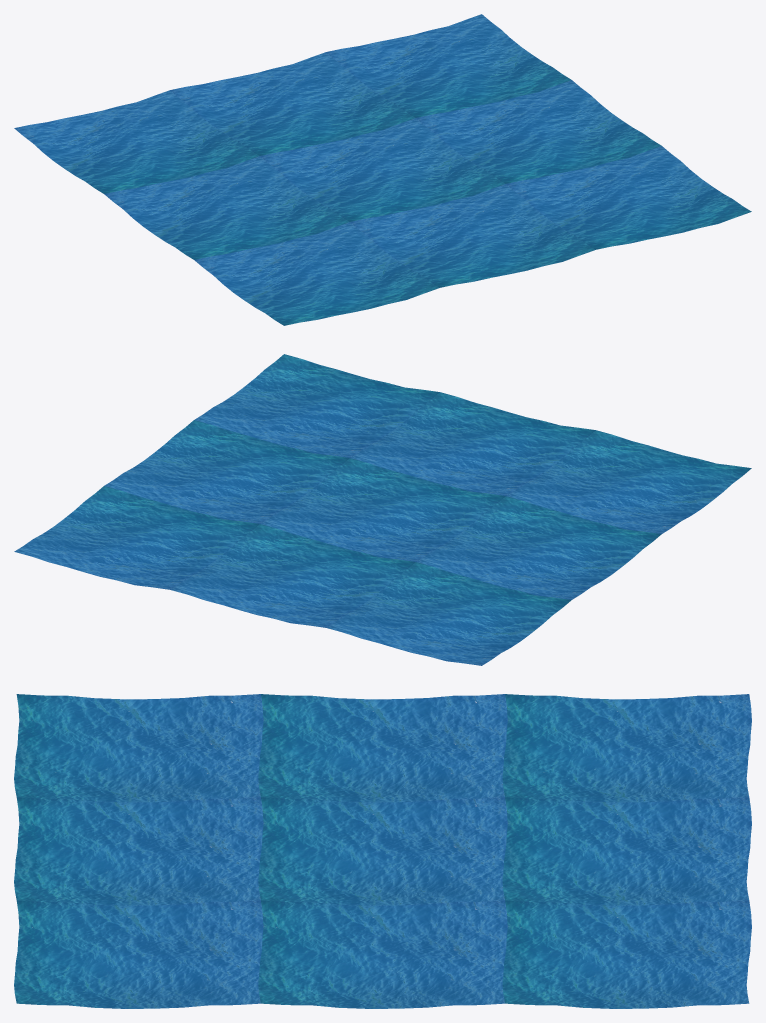
File: ocean_000182.obj
The picture shows the model from 3 angles, top to bottom: view 1: azimuth 30°, elevation 25°; view 2: azimuth 150°, elevation 25°; view 3: azimuth 270°, elevation 25°; orthographic projection. The views are drawn at different scales.
Visible parts, largest first — view 1: Ocean_Plan.001; view 2: Ocean_Plan.001; view 3: Ocean_Plan.001.
Boxes of the visible parts, bbox=[...] form: Ocean_Plan.001: bbox=[14, 14, 751, 325]; Ocean_Plan.001: bbox=[14, 354, 751, 665]; Ocean_Plan.001: bbox=[14, 694, 751, 1008].
Bounding box in the file's own units: 109042 × 1804 × 109763.
Materials: 1 (1 with a texture image).
